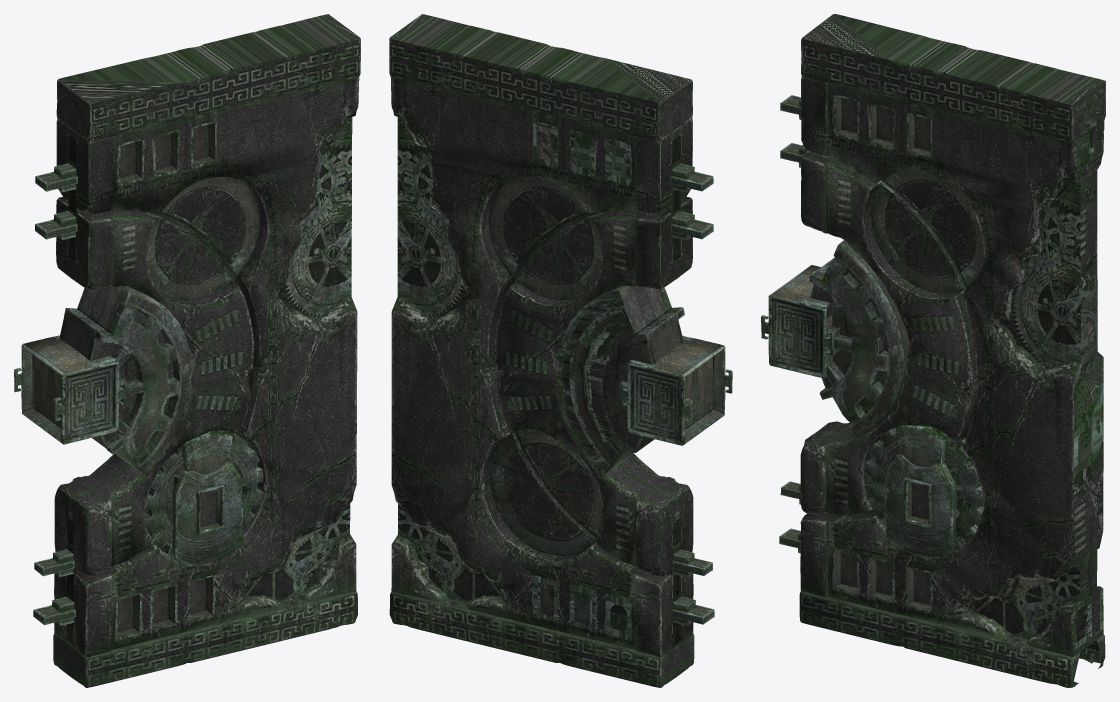
3 views of the same model, side by side, from view 1: azimuth 30°, elevation 25°; view 2: azimuth 150°, elevation 25°; view 3: azimuth 330°, elevation 25° (orthographic).
Visible parts, largest first — view 1: big ga525, big ga527, big ga519, big ga490, big ga489, big ga518, big ga521, big ga523, big ga524, big ga522; view 2: big ga525, big ga518, big ga519, big ga527, big ga521, big ga523, big ga524, big ga522; view 3: big ga525, big ga527, big ga490, big ga519, big ga489.
Part boxes in pixels (left/top/right/bottom): big ga525: left=53, top=14, right=360, bottom=687; big ga527: left=77, top=286, right=193, bottom=476; big ga519: left=14, top=335, right=126, bottom=444; big ga490: left=172, top=432, right=242, bottom=564; big ga489: left=146, top=430, right=263, bottom=555; big ga518: left=59, top=287, right=127, bottom=462; big ga521: left=33, top=597, right=75, bottom=625; big ga523: left=35, top=163, right=77, bottom=192; big ga524: left=35, top=211, right=77, bottom=239; big ga522: left=34, top=549, right=74, bottom=577; big ga525: left=389, top=14, right=694, bottom=687; big ga518: left=554, top=286, right=669, bottom=476; big ga519: left=619, top=335, right=732, bottom=445; big ga527: left=619, top=287, right=684, bottom=463; big ga521: left=671, top=596, right=714, bottom=625; big ga523: left=670, top=163, right=713, bottom=192; big ga524: left=670, top=211, right=713, bottom=240; big ga522: left=672, top=549, right=712, bottom=577; big ga525: left=799, top=14, right=1105, bottom=687; big ga527: left=809, top=240, right=909, bottom=438; big ga490: left=885, top=425, right=956, bottom=557; big ga519: left=761, top=265, right=839, bottom=377; big ga489: left=865, top=425, right=983, bottom=550.
Bounding box in the file's own units: 32.37 × 58.69 × 7.61.
